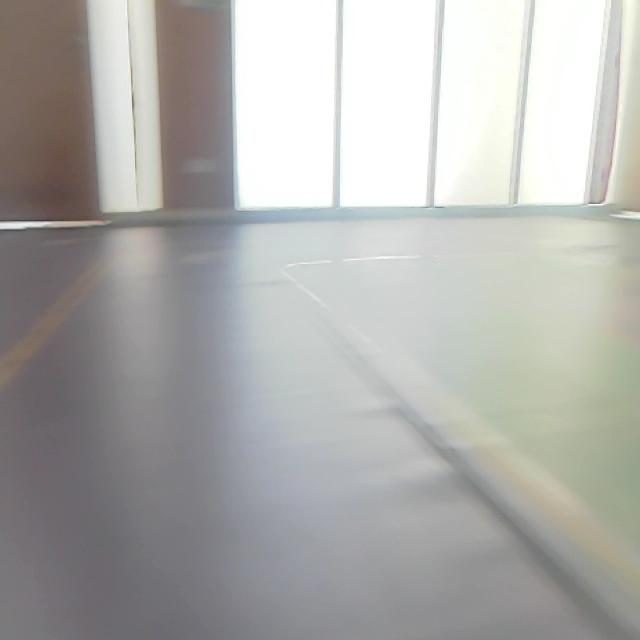left_lane: (0, 251, 111, 392)
right_lane: (282, 269, 640, 588)
